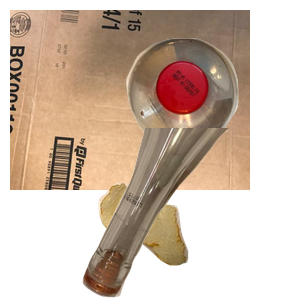cardboard: (10, 10, 250, 190)
glass: (80, 128, 300, 300)
plastic: (124, 36, 300, 175)
trash: (96, 181, 277, 300)
